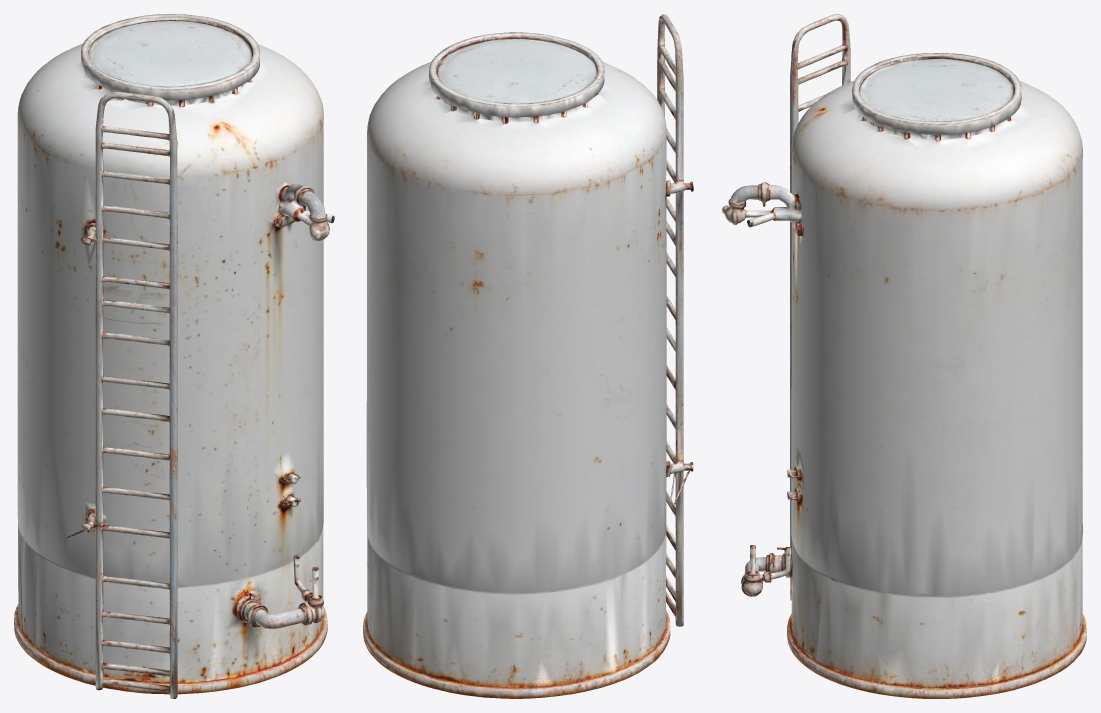
File: tank.glb
3 renders of one model, left to right at view 1: azimuth 30°, elevation 25°; view 2: azimuth 150°, elevation 25°; view 3: azimuth 270°, elevation 25°, orthographic. The views are drawn at different scales.
Visible parts, largest first — view 1: tank; view 2: tank; view 3: tank.
Boxes of the visible parts, x1,y1,x2,y2 form: tank: [14, 14, 334, 698]; tank: [363, 14, 693, 698]; tank: [722, 14, 1086, 698].
Bounding box in the file's own units: 0.4711 × 1 × 0.578.
Materials: 1 (1 with a texture image).
